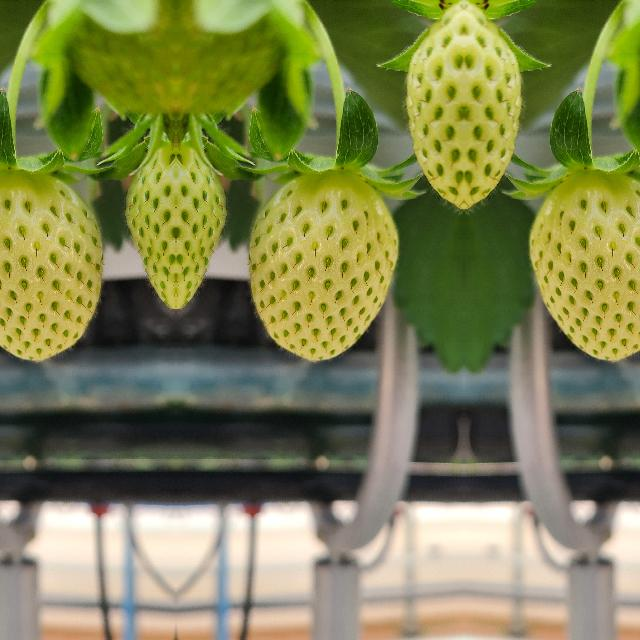Health_25: (248, 172, 396, 360), (530, 172, 640, 360), (0, 172, 102, 360), (399, 0, 463, 216), (463, 0, 527, 216), (174, 127, 230, 315), (120, 127, 176, 315)
